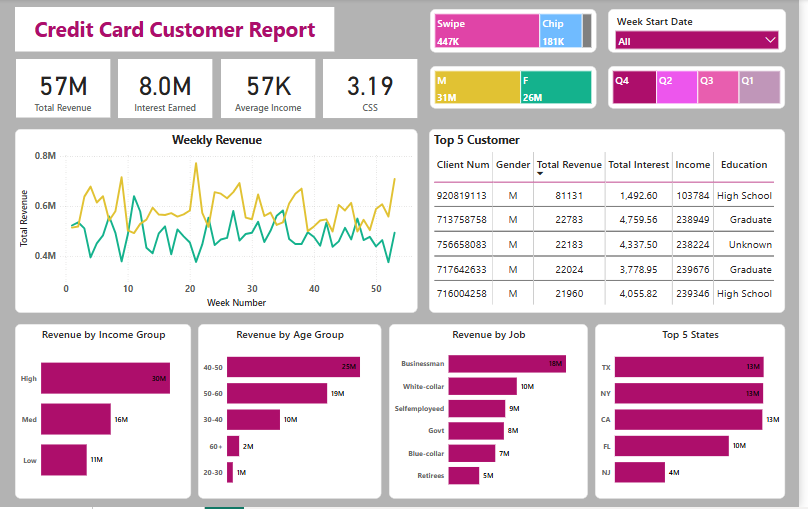

What the dashboard file says about the page in this screenshot:
{"tool":"powerbi","page":{"name":"CC Customer","canvas":[1650,1050],"ordinal":2},"visuals":[{"type":"textbox","box":[31.7,17.5,660.3,92.1],"z":0},{"type":"clusteredBarChart","title":"Revenue by Income Group","fields":{"Y":["Measure Table.Total Revenue"],"Category":["public cust_detail.IncomeGroup"]},"box":[30.4,671.4,364.3,360.7],"z":1000},{"type":"tableEx","title":"Top 5 Customer","fields":{"Values":["public cc_detail.client_num","public cust_detail.gender","Measure Table.Total Revenue","Sum(public cc_detail.interest_earned)","Sum(public cust_detail.income)","public cust_detail.education_level"]},"box":[887.5,269.6,735.7,380.4],"z":2000},{"type":"card","fields":{"Values":["Measure Table.Total Revenue"]},"box":[32.1,123.2,194.6,121.4],"z":3000},{"type":"card","title":"Interest Earned","fields":{"Values":["Sum(public cc_detail.interest_earned)"]},"box":[243.9,123.2,195,122.2],"z":4000},{"type":"card","fields":{"Values":["Avg(public cust_detail.income)"]},"box":[456.1,123.2,195,122.2],"z":5000},{"type":"card","fields":{"Values":["Avg(public cust_detail.cust_satisfaction_score)"]},"box":[668.3,123.2,195.2,122.2],"z":6000},{"type":"treemap","fields":{"Group":["public cc_detail.qtr"],"Values":["CountNonNull(public cust_detail.client_num)"]},"box":[1256,138,366,88],"z":7000},{"type":"treemap","fields":{"Group":["public cust_detail.gender"],"Values":["Measure Table.Total Revenue"]},"box":[888,138,344,88],"z":8000},{"type":"lineChart","title":"Weekly Revenue","fields":{"Y":["Measure Table.Total Revenue"],"Category":["public cc_detail.week_num2"],"Series":["public cust_detail.gender"]},"box":[30.4,269.6,832.1,380.4],"z":9000},{"type":"clusteredBarChart","title":"Revenue by Age Group","fields":{"Y":["Measure Table.Total Revenue"],"Category":["public cust_detail.AgeGroup"]},"box":[408.9,671.4,378.6,360.7],"z":10000},{"type":"clusteredBarChart","title":"Revenue by Job","fields":{"Y":["Measure Table.Total Revenue"],"Category":["public cust_detail.customer_job"]},"box":[803.6,671.4,410.7,360.7],"z":11000},{"type":"clusteredBarChart","title":"Top 5 States","fields":{"Y":["Measure Table.Total Revenue"],"Category":["public cust_detail.state_cd"]},"box":[1230.4,671.4,392.9,360.7],"z":12000},{"type":"treemap","fields":{"Group":["public cc_detail.use_chip"],"Values":["Sum(public cc_detail.total_trans_ct)"]},"box":[888,20,344,90],"z":13000},{"type":"slicer","fields":{"Values":["public cc_detail.week_start_date"]},"box":[1256,20,368,90],"z":14000}]}

Visuals, with their boxes in screenshot pixels (x1, y1, x2, y2), scaled from the page's 1650x1050 canvas onto the 808x509 screenshot:
textbox: [16, 8, 339, 53]
"Revenue by Income Group" clusteredBarChart: [15, 325, 193, 500]
"Top 5 Customer" tableEx: [435, 131, 795, 315]
card - Measure Table.Total Revenue: [16, 60, 111, 119]
"Interest Earned" card: [119, 60, 215, 119]
card - Avg(public cust_detail.income): [223, 60, 319, 119]
card - Avg(public cust_detail.cust_satisfaction_score): [327, 60, 423, 119]
treemap - public cc_detail.qtr x CountNonNull(public cust_detail.client_num): [615, 67, 794, 110]
treemap - public cust_detail.gender x Measure Table.Total Revenue: [435, 67, 603, 110]
"Weekly Revenue" lineChart: [15, 131, 422, 315]
"Revenue by Age Group" clusteredBarChart: [200, 325, 386, 500]
"Revenue by Job" clusteredBarChart: [394, 325, 595, 500]
"Top 5 States" clusteredBarChart: [603, 325, 795, 500]
treemap - public cc_detail.use_chip x Sum(public cc_detail.total_trans_ct): [435, 10, 603, 53]
slicer - public cc_detail.week_start_date: [615, 10, 795, 53]
